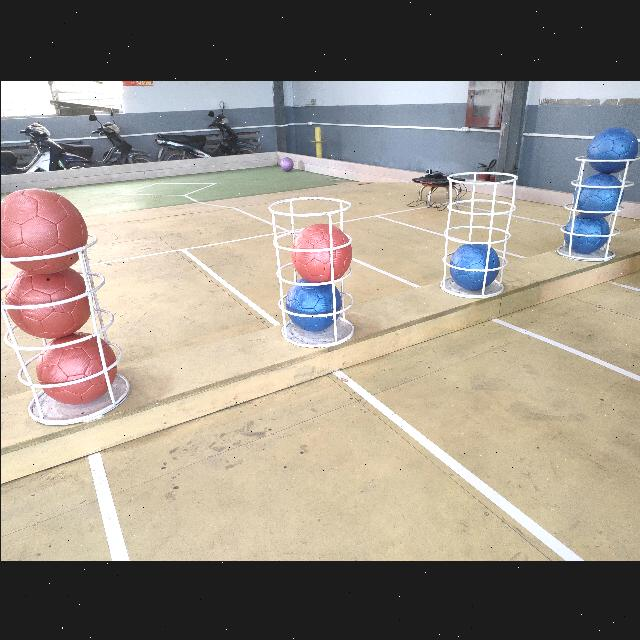B: (284, 282, 342, 331), (584, 124, 640, 174), (448, 240, 496, 288), (570, 172, 618, 216), (562, 214, 608, 252)
R: (0, 180, 86, 272), (38, 330, 116, 406), (5, 268, 89, 336), (290, 218, 352, 282)
